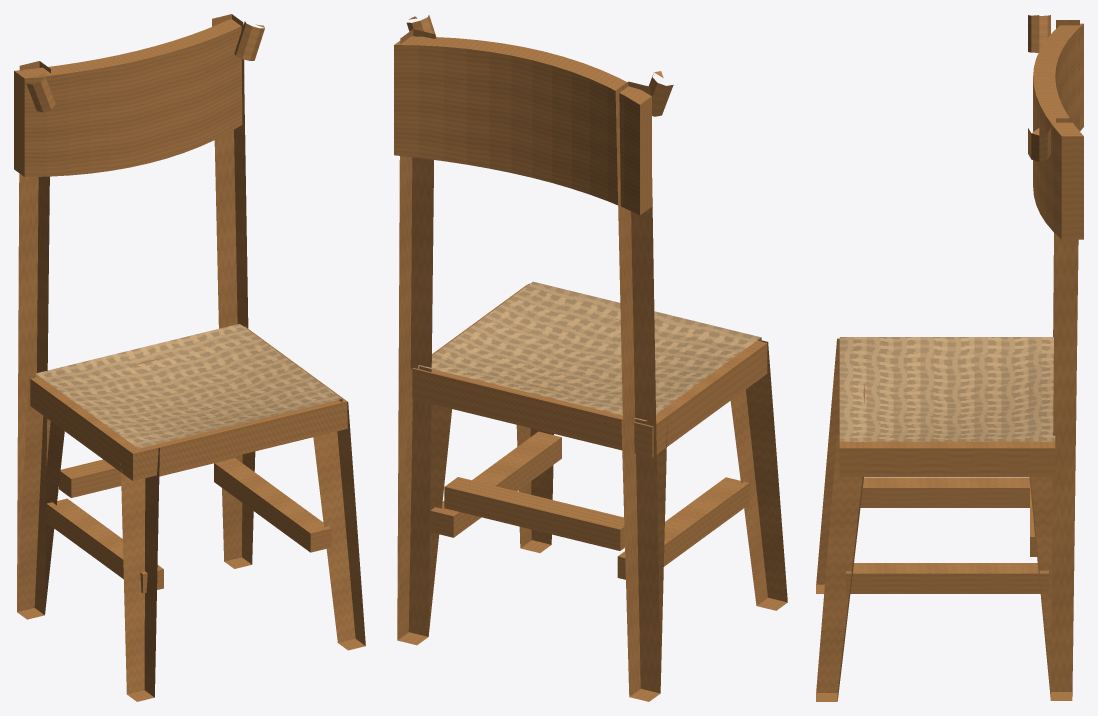
Rendered from dining-chair-v1.glb.
3 views of the same model, side by side, from view 1: azimuth 30°, elevation 25°; view 2: azimuth 150°, elevation 25°; view 3: azimuth 270°, elevation 25° (orthographic). The views are drawn at different scales.
Parts seen in each view (by area): view 1: room03-dining-chair; view 2: room03-dining-chair; view 3: room03-dining-chair.
Boxes of the visible parts, box(x1,y1,x2,y2) form: room03-dining-chair: box(14, 14, 365, 701); room03-dining-chair: box(394, 15, 787, 701); room03-dining-chair: box(816, 15, 1083, 701).
Bounding box in the file's own units: 0.4538 × 1 × 0.422.
Materials: 2 (2 with a texture image).
